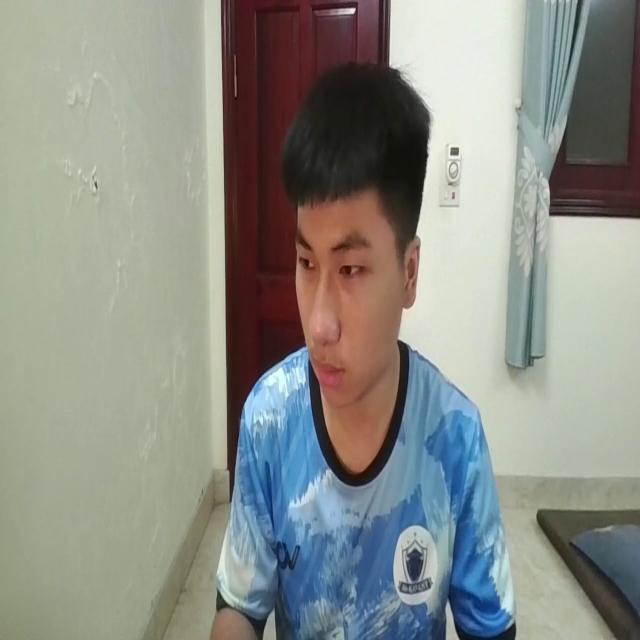student: (200, 57, 514, 640)
